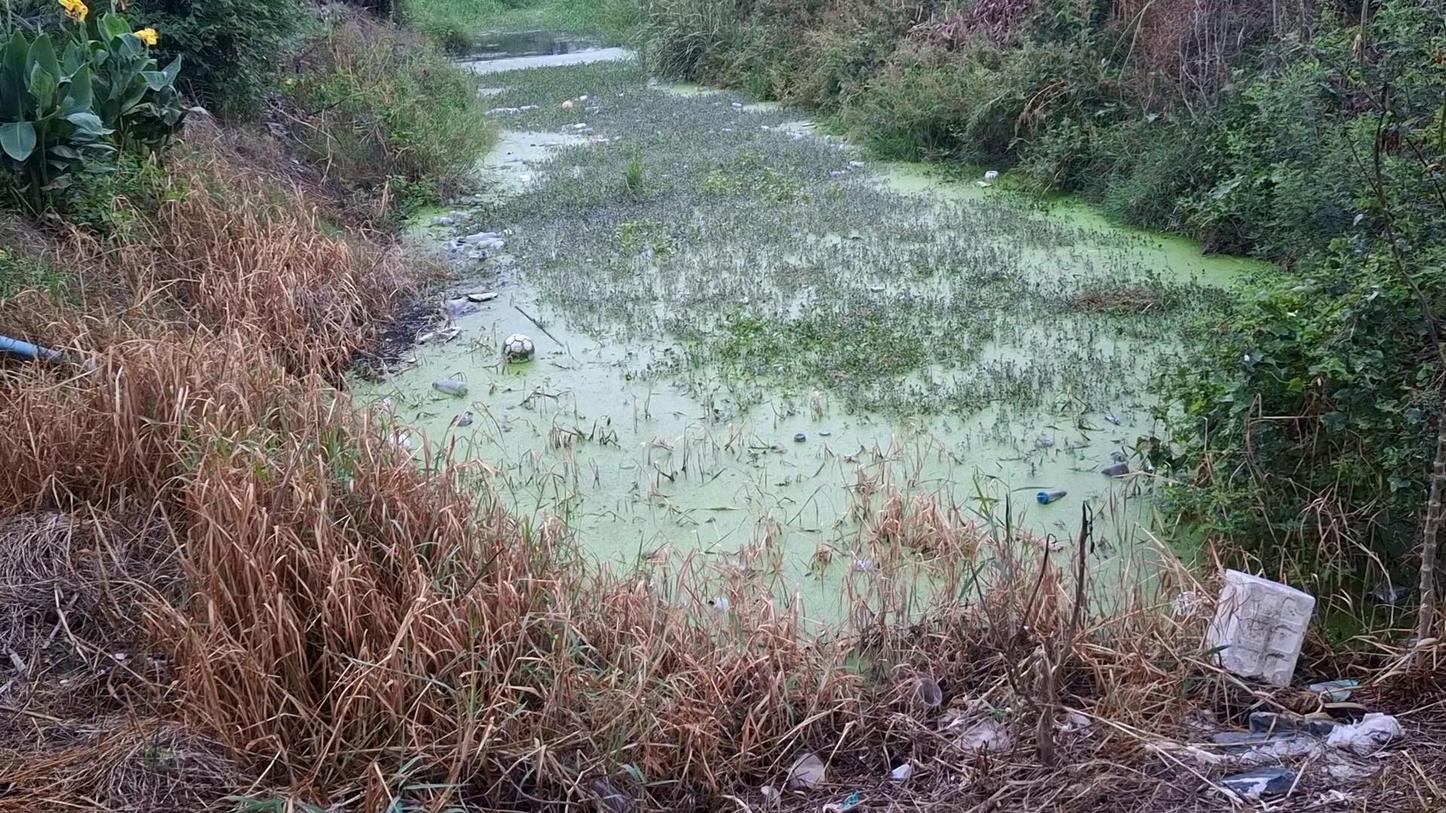ignore: (706, 231, 1219, 415), (536, 190, 931, 326), (472, 67, 798, 227)
trash: (448, 224, 519, 263), (493, 328, 548, 363), (420, 209, 486, 235), (787, 421, 849, 447), (1092, 460, 1141, 489), (461, 284, 510, 310), (1026, 477, 1069, 506), (435, 381, 475, 406), (974, 164, 1007, 192)
